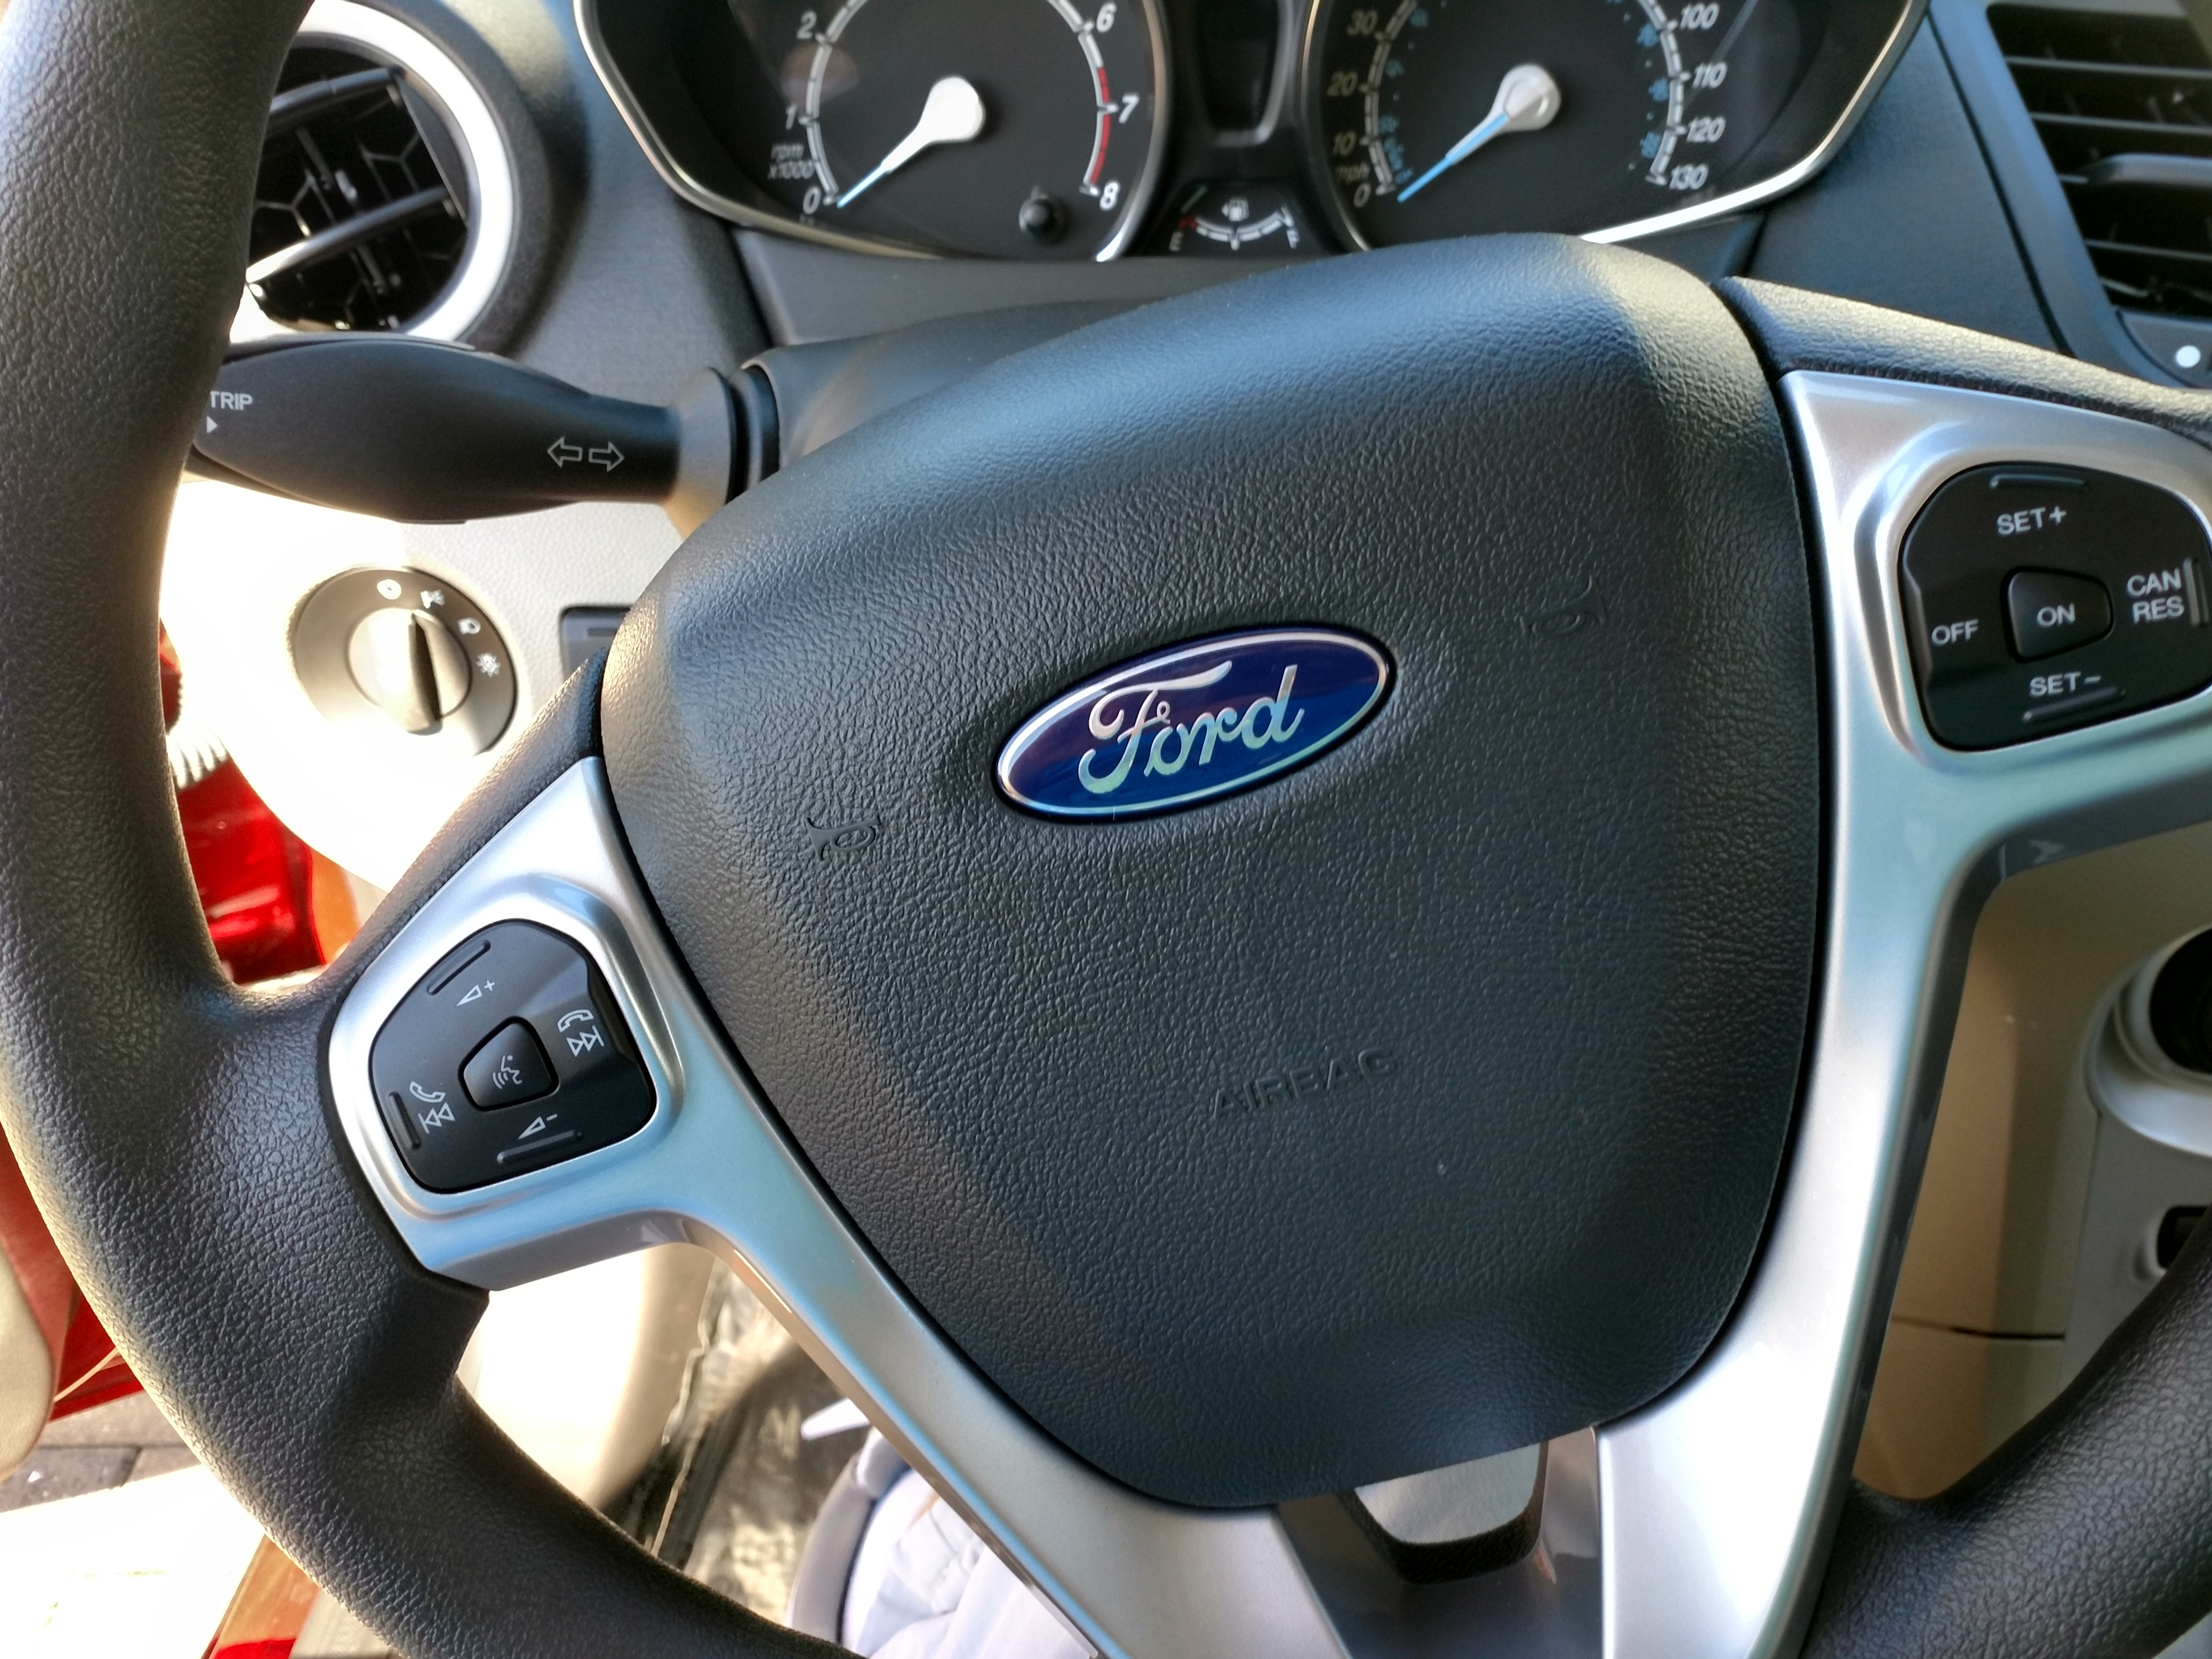Ford: (975, 615, 1413, 849)
